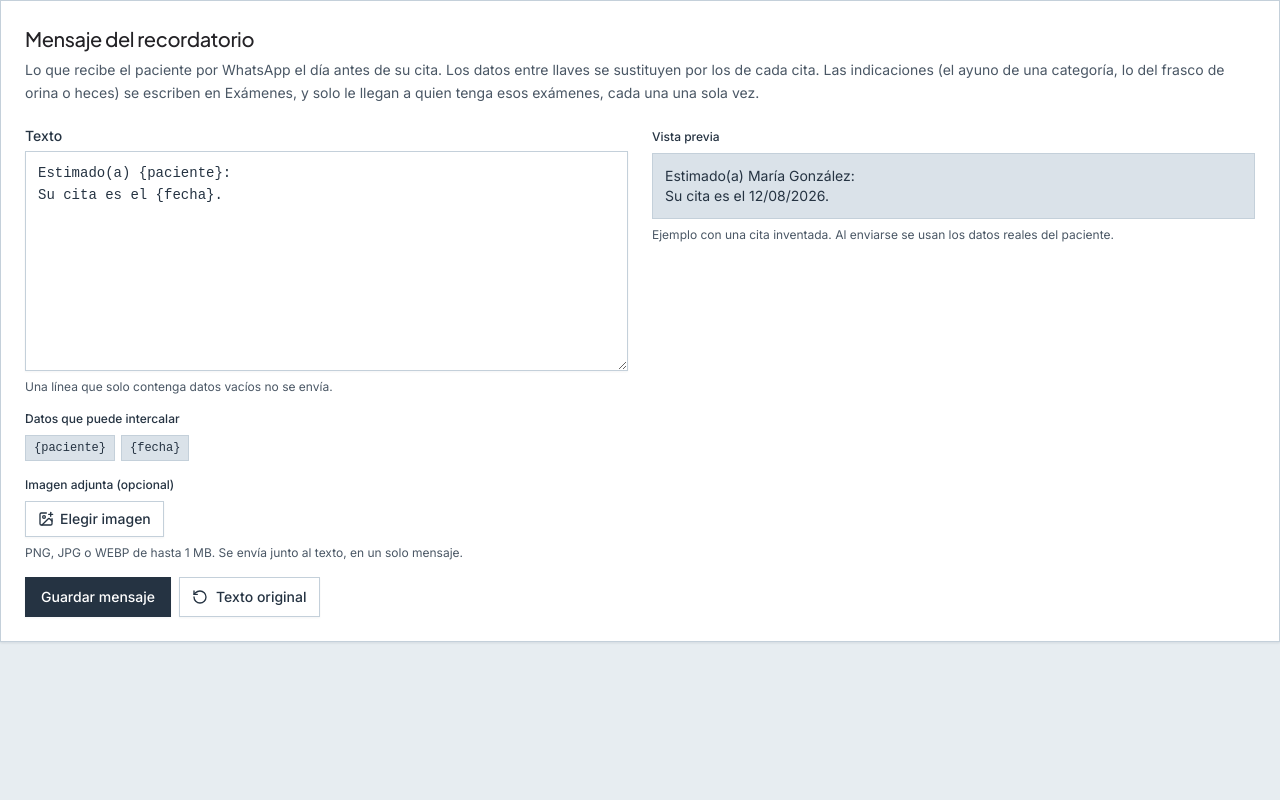
Test case: MensajeRecordatorioCard › inserta un dato en el texto al pulsar su botón
The image size is (1280, 800).
Expected: the text "Estimado(a) María González: Su cita es el 12/08/2026." is shown, left=665, top=166, right=855, bottom=204
Clear the text box labelled "Texto" at (326, 260), box left=25, top=150, right=628, bottom=370
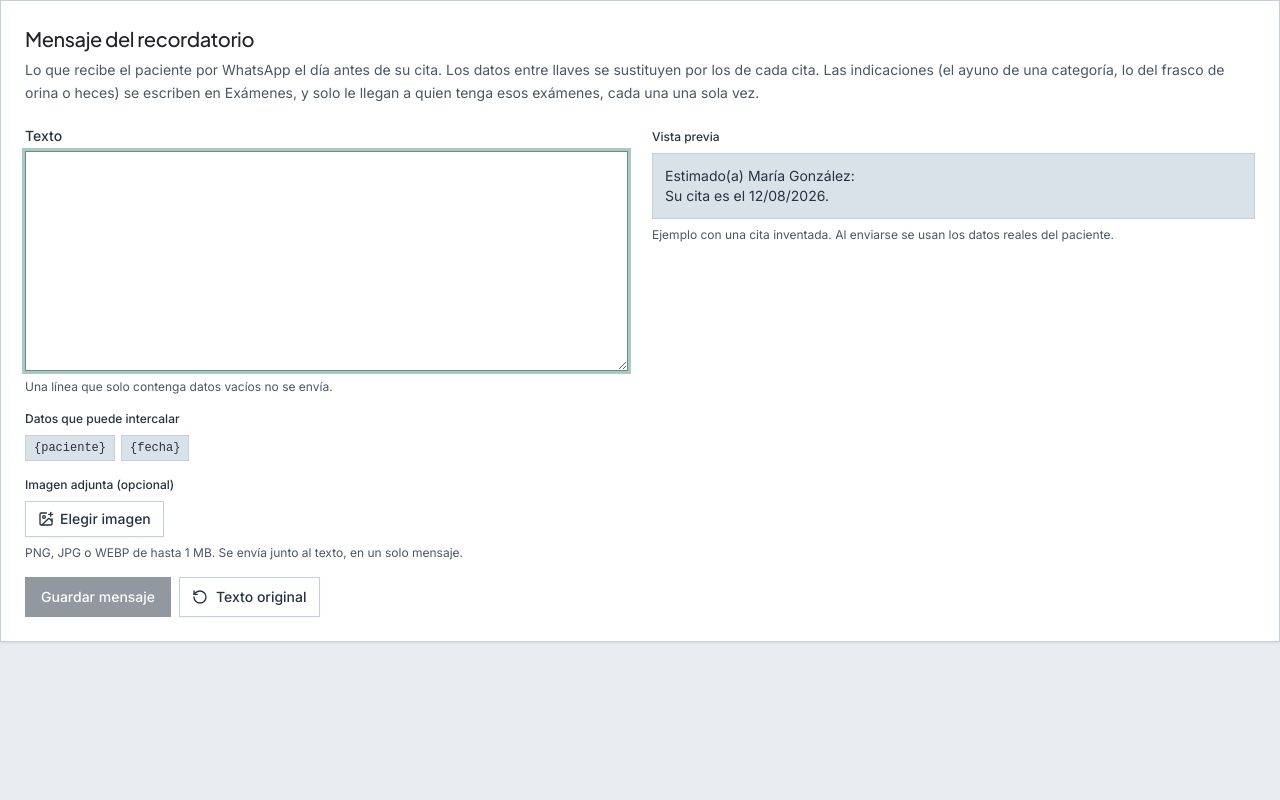
Click the button "{paciente}" at (70, 448), box left=25, top=434, right=115, bottom=460
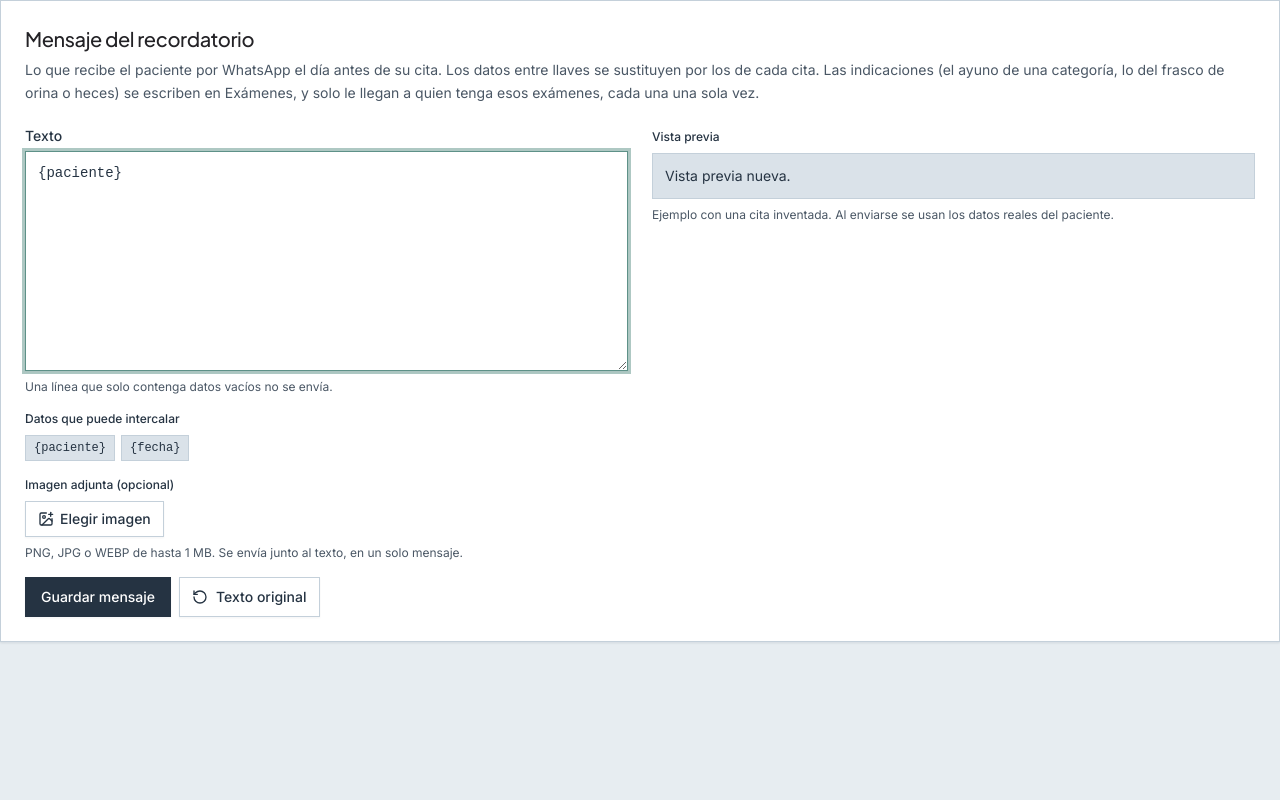
Expected: the text box labelled "Texto" holds "{paciente}", left=25, top=150, right=628, bottom=370
